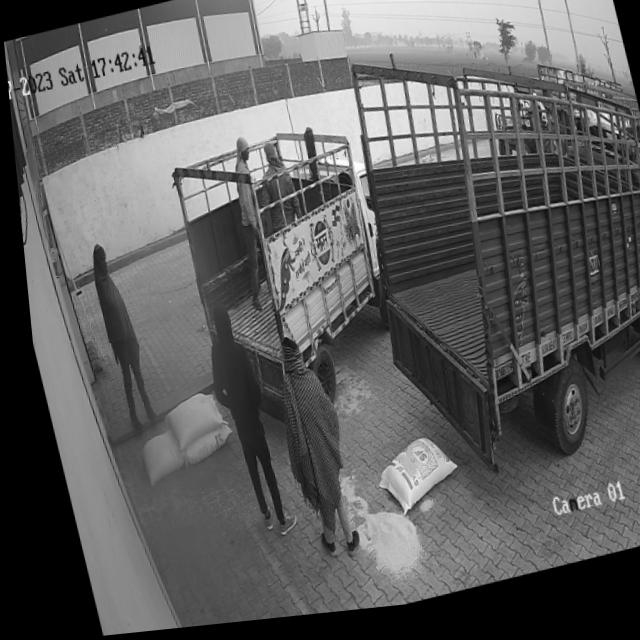sack: (360, 438, 455, 527), (151, 393, 218, 454), (128, 431, 178, 488), (169, 426, 227, 469)
